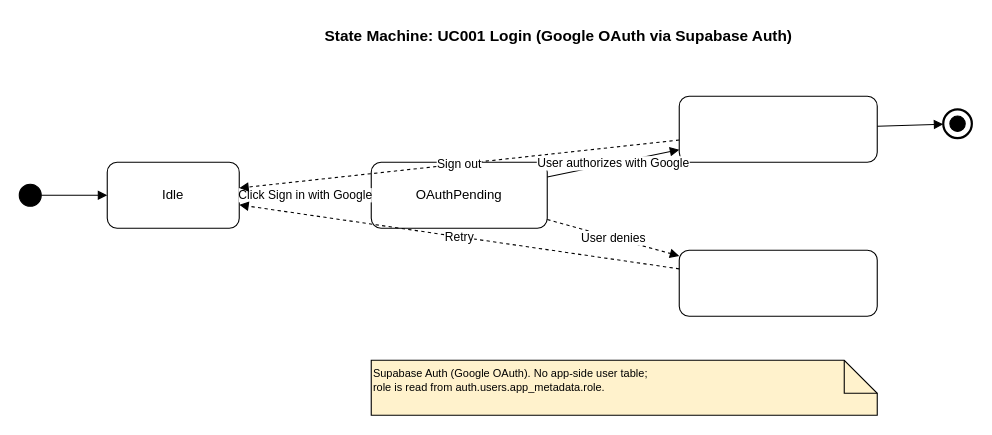
This 992x435 diagram has some shape labels left out. The centre of each missing label's shape, as x and y in pixels:
"Authenticated" belongs at pixel 777 128.
"AuthFailed" belongs at pixel 777 282.
